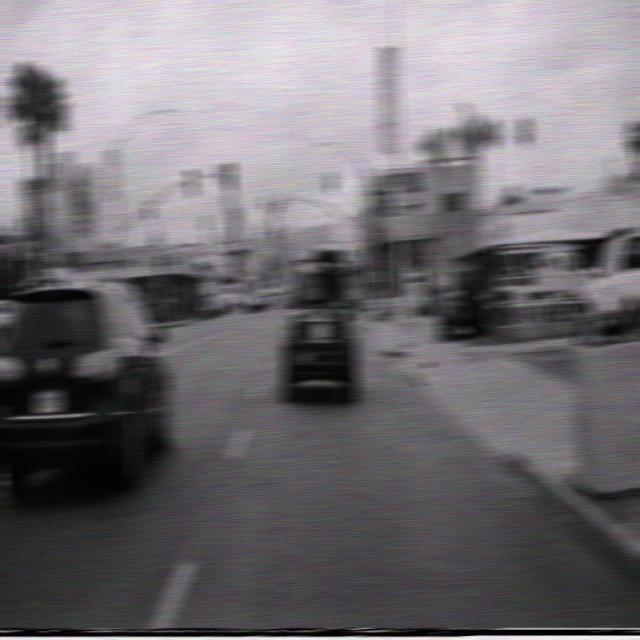speedLimit30: (388, 183, 409, 222)
